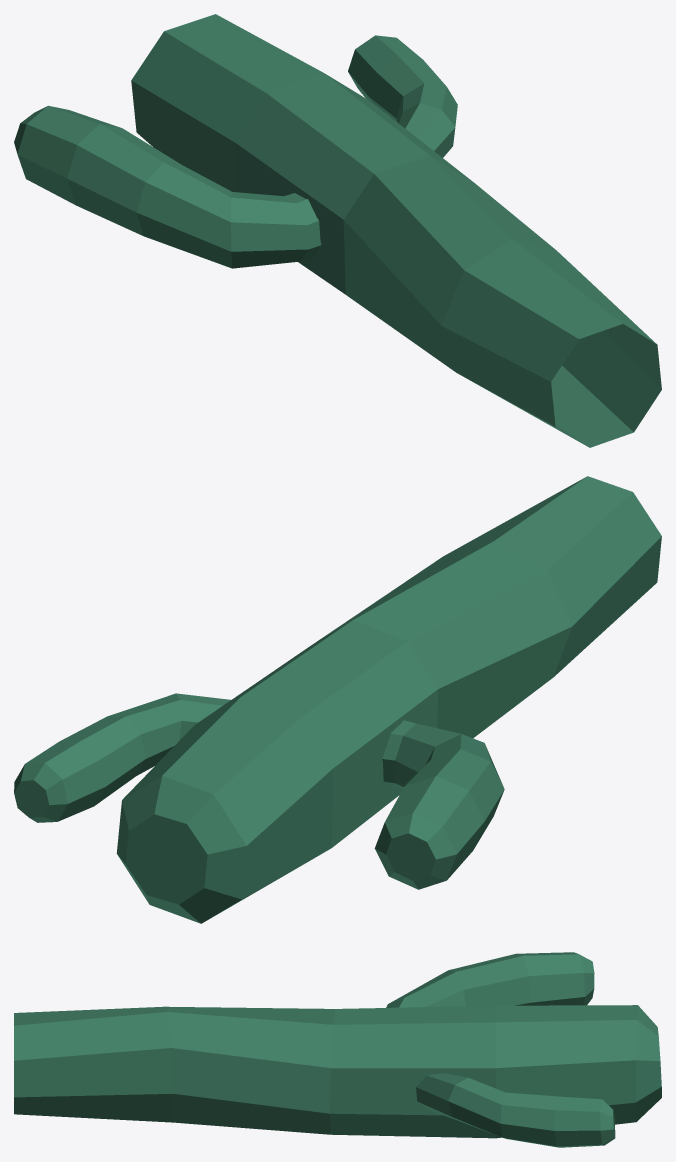
The model's file is Cactus.fbx.
The picture shows the model from 3 angles, top to bottom: view 1: azimuth 30°, elevation 25°; view 2: azimuth 150°, elevation 25°; view 3: azimuth 270°, elevation 25°; orthographic projection. The views are drawn at different scales.
Parts seen in each view (by area): view 1: Cactus.001; view 2: Cactus.001; view 3: Cactus.001.
Boxes of the visible parts, x1,y1,x2,y2 form: Cactus.001: (14, 14, 661, 447); Cactus.001: (14, 476, 661, 923); Cactus.001: (14, 952, 661, 1147).
Size of the model in its own units: 2.06 by 0.7297 by 3.72.
